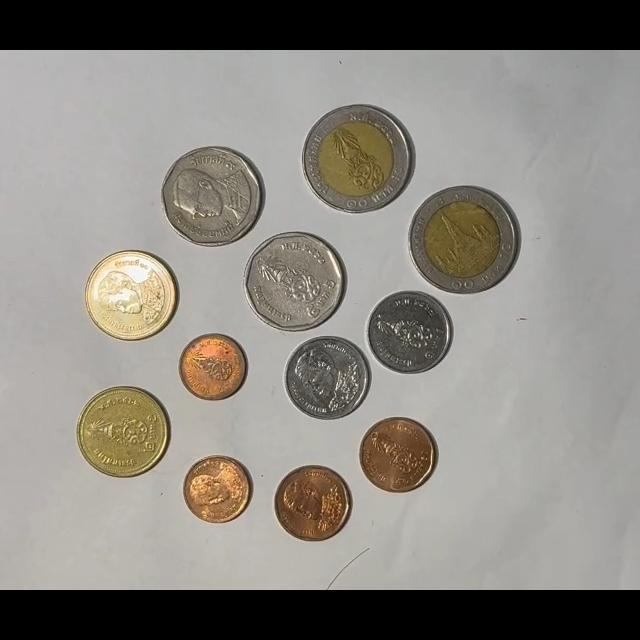1-baht: (284, 336, 370, 422), (366, 290, 452, 375)
10-baht: (302, 104, 415, 215), (409, 186, 520, 295)
2-baht: (84, 250, 177, 343), (76, 386, 170, 478)
25-satang: (183, 455, 254, 525), (179, 333, 247, 401)
5-baht: (243, 231, 346, 333), (161, 146, 265, 247)
50-satang: (274, 464, 352, 542), (359, 416, 437, 493)
